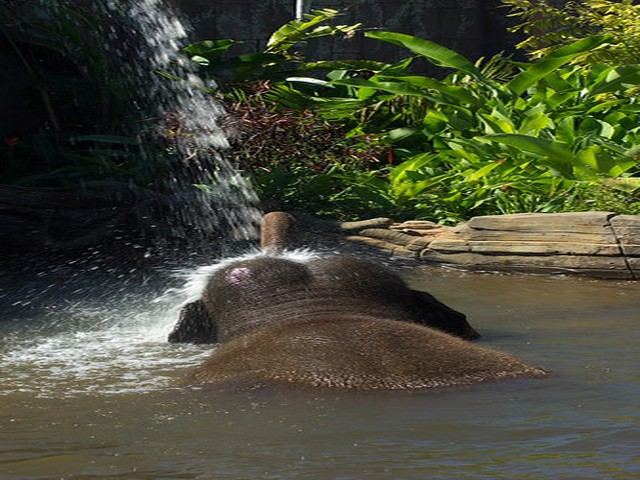Elephant: (166, 208, 555, 390)
